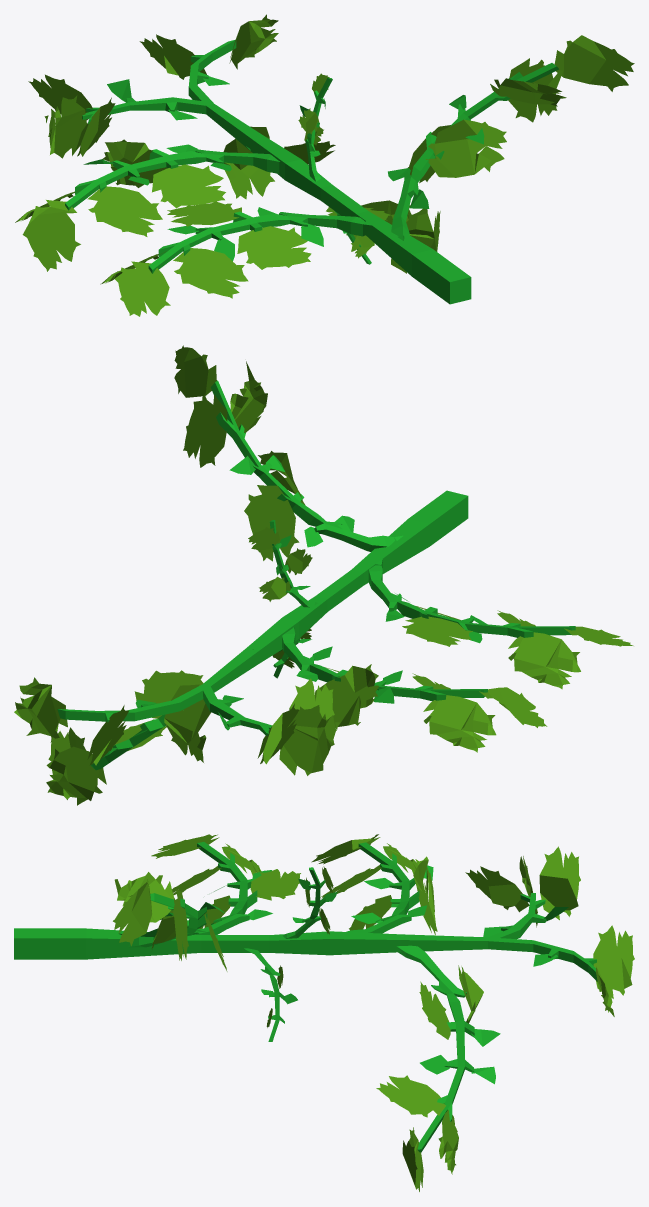
The model's file is tomate-medio.glb.
3 views of the same model, one above another, from view 1: azimuth 30°, elevation 25°; view 2: azimuth 150°, elevation 25°; view 3: azimuth 270°, elevation 25° (orthographic). The views are drawn at different scales.
Parts seen in each view (by area): view 1: Cube.001, Cube; view 2: Cube.001, Cube; view 3: Cube, Cube.001.
Boxes of the visible parts, <box> form: Cube.001: <box>15,14,634,316</box>; Cube: <box>65,39,558,304</box>; Cube.001: <box>14,345,633,805</box>; Cube: <box>57,380,575,770</box>; Cube: <box>14,842,601,1152</box>; Cube.001: <box>113,834,634,1191</box>.
Size of the model in its own units: 4.09 by 2.75 by 4.82.
